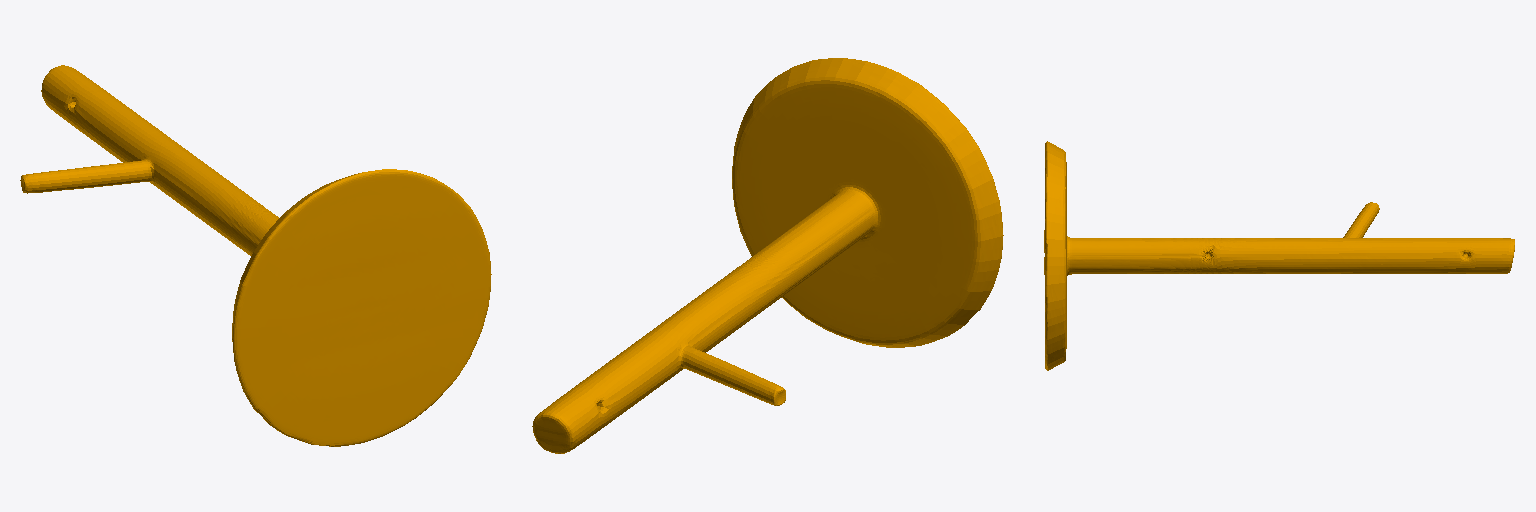
robot.urdf — object:
<?xml version="1.0"?>
<robot name="object">
  <link name="object">
    <visual>
      <origin xyz="0.0 0.0 0.0"/>
      <geometry>
        <mesh filename="base.obj" scale="1. 1. 1."/>
      </geometry>
    </visual>
    <collision>
      <origin xyz="0.0 0.0 0.0"/>
      <geometry>
        <mesh filename="base.obj" scale="1. 1. 1."/>        
      </geometry>
    </collision>
    <inertial>
      <mass value="0.2"/>
      <inertia ixx="0.0000" ixy="0.0" ixz="0.0" iyy="0.000" iyz="0.0" izz="0.000"/>
    </inertial>
  </link>
</robot>

--- Facts derived from the render (not from the file) ---
Views: 3 orthographic renders of the robot side by side, from view 1: azimuth 30°, elevation 25°; view 2: azimuth 150°, elevation 25°; view 3: azimuth 270°, elevation 25°.
Model object with 1 links and 0 joints (none), rooted at object, posed all joints at 0.
Links seen in each view (by area): view 1: object; view 2: object; view 3: object.
Link boxes in pixels (x1,y1,x2,y2): object: [20, 65, 491, 446]; object: [532, 58, 1003, 453]; object: [1044, 141, 1514, 370].
Bounding box of the posed robot: 0.9326 × 1.91 × 0.9309 m (x, y, z).
Meshes: 1 distinct files referenced, 1 mesh visuals loaded (1 OBJ).